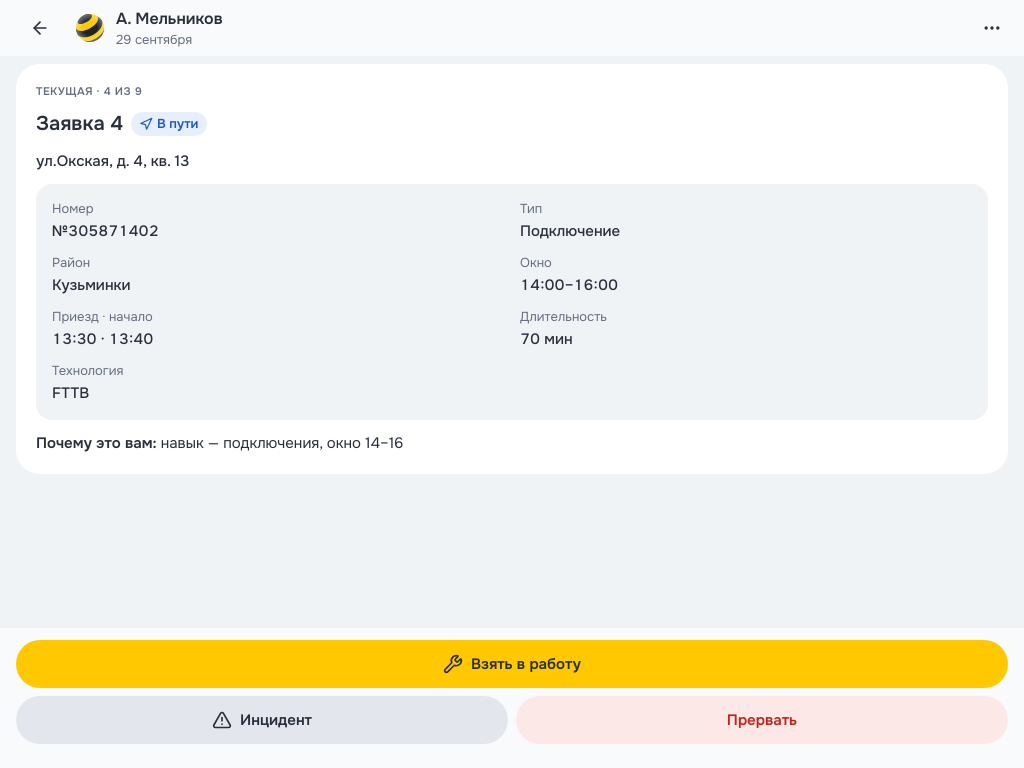
it: E-05 карточка текущей заявки › «Прервать» из карточки — шторка для этой заявки
Click the button "Прервать" at [762, 720], box [516,696,1008,744]
(page scrolled)
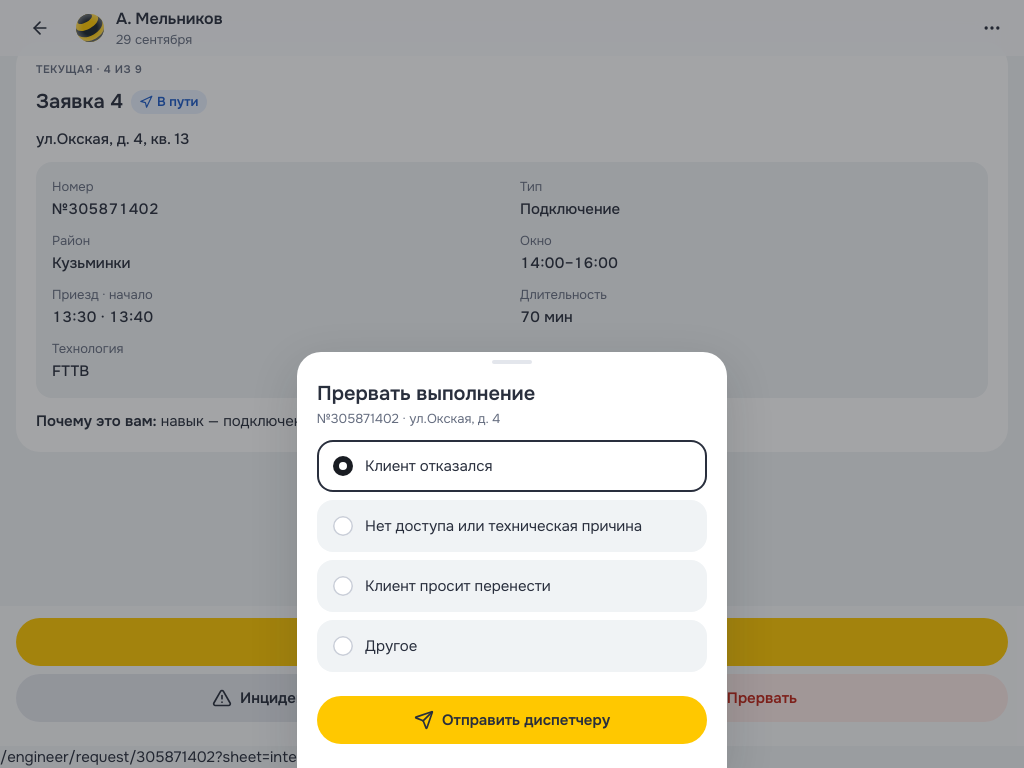
Expected: the text "№305871402 · ул.Окская, д. 4" is shown, [317,410,500,427]
Expected: the text with test id "location" reads "/engineer/request/305871402?sheet=interrupt", [0,747,331,767]
